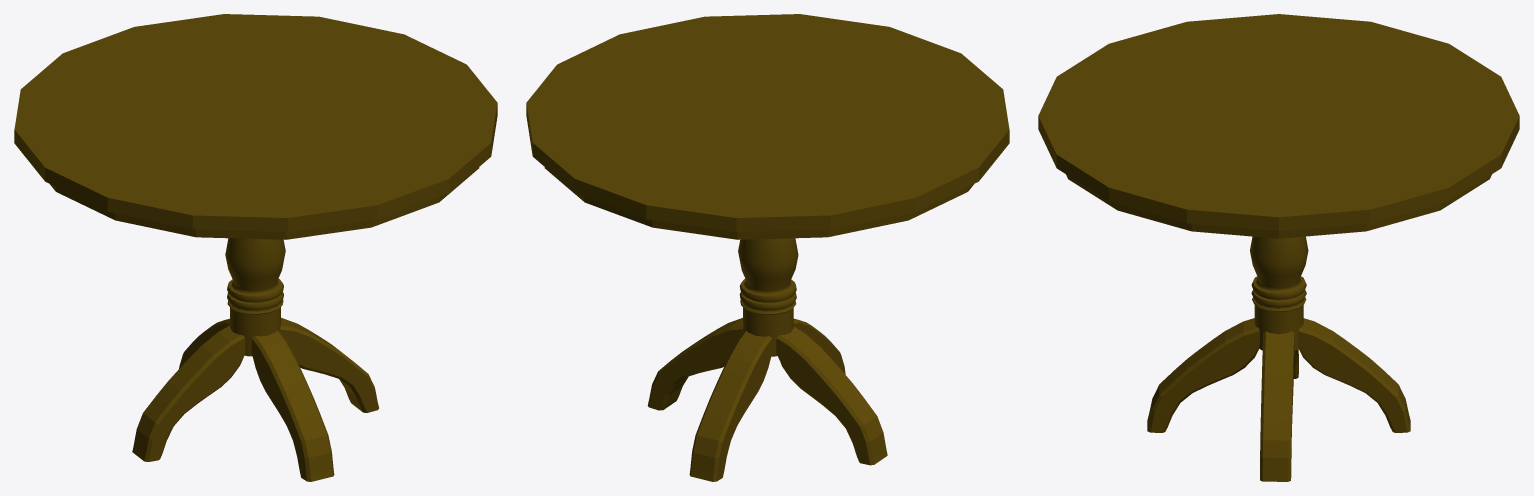
File: 3d round table.fbx
The picture shows the model from 3 angles, left to right: view 1: azimuth 30°, elevation 25°; view 2: azimuth 150°, elevation 25°; view 3: azimuth 270°, elevation 25°; orthographic projection.
Visible parts, largest first — view 1: d_round_table:mesa1_top_low1; view 2: d_round_table:mesa1_top_low1; view 3: d_round_table:mesa1_top_low1.
Part boxes in pixels (<box>): d_round_table:mesa1_top_low1: <box>14,14,497,481</box>; d_round_table:mesa1_top_low1: <box>526,14,1009,481</box>; d_round_table:mesa1_top_low1: <box>1038,14,1519,481</box>.
Size of the model in its own units: 74.23 by 53.05 by 74.23.
